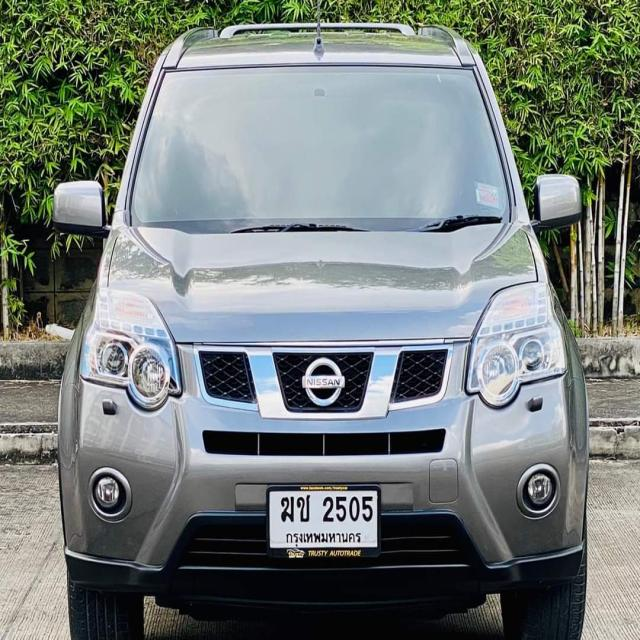license_plate: (267, 484, 381, 564)
